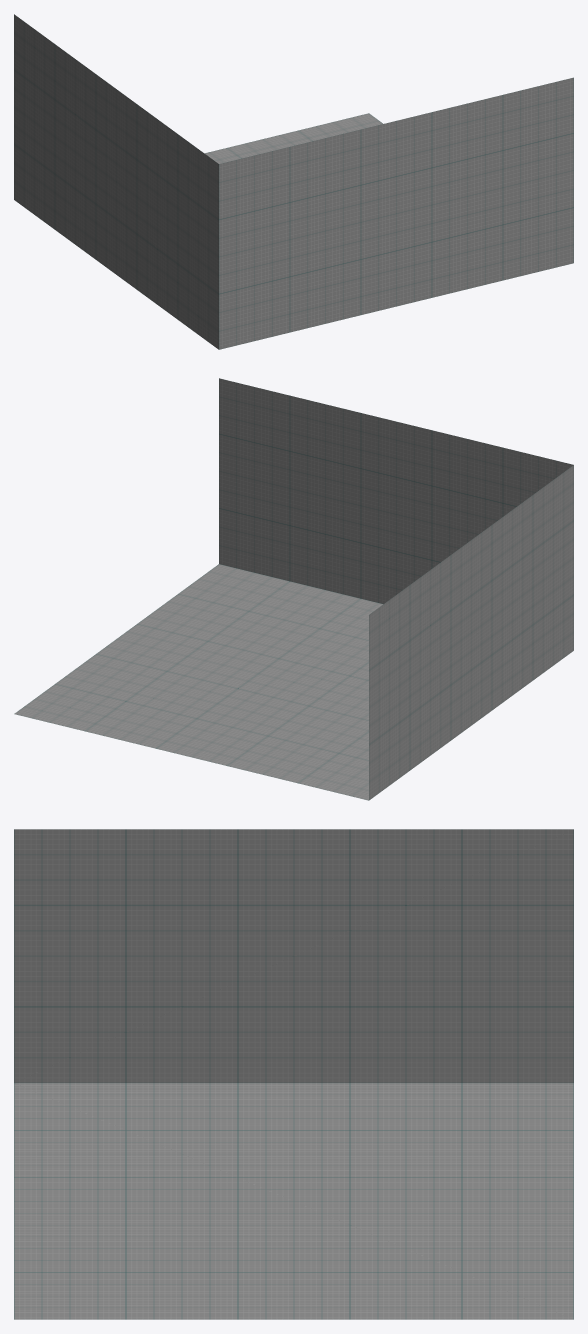
The model's file is map_grid.FBX.
3 renders of one model, top to bottom at view 1: azimuth 30°, elevation 25°; view 2: azimuth 150°, elevation 25°; view 3: azimuth 270°, elevation 25°, orthographic. The views are drawn at different scales.
Visible parts, largest first — view 1: Plane001; view 2: Plane001; view 3: Plane001.
Part boxes in pixels (left/top/right/bottom): Plane001: left=14, top=14, right=573, bottom=349; Plane001: left=14, top=378, right=573, bottom=800; Plane001: left=14, top=829, right=573, bottom=1319.
Bounding box in the file's own units: 787 × 394 × 787.
1 material, 1 textured.
